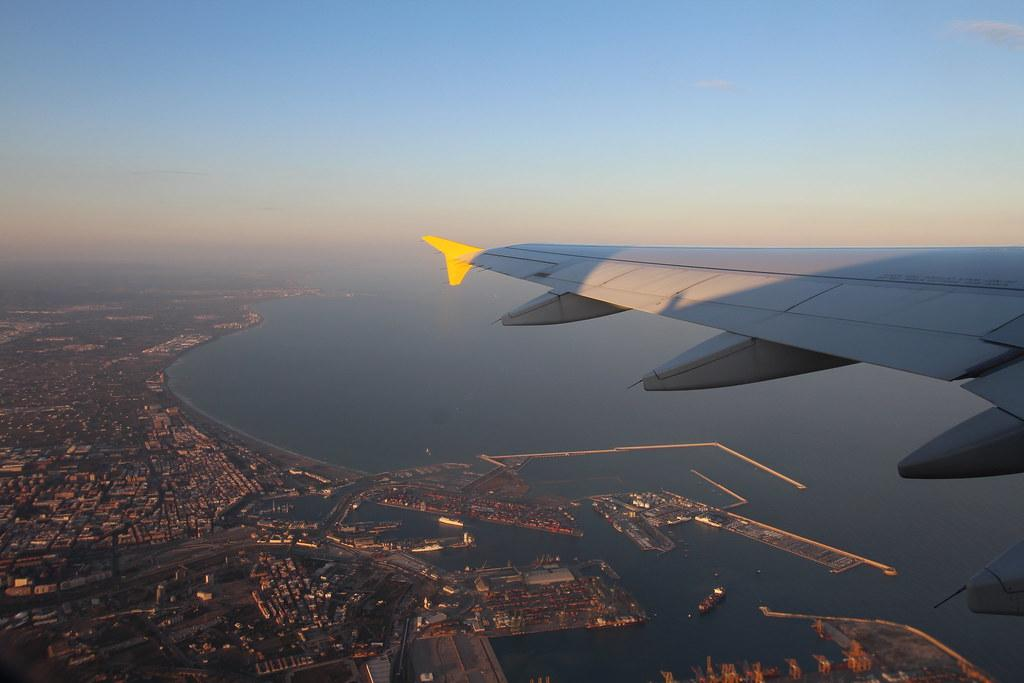plane: (421, 233, 1023, 616)
